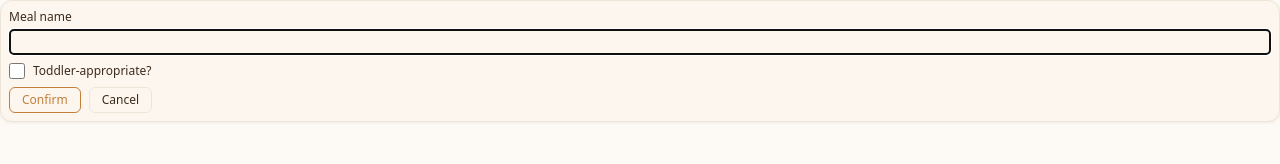
Test: MealSlotEditing › shows validation error when meal name is empty
Click the button "Confirm" at (45, 100), box [9, 87, 81, 113]
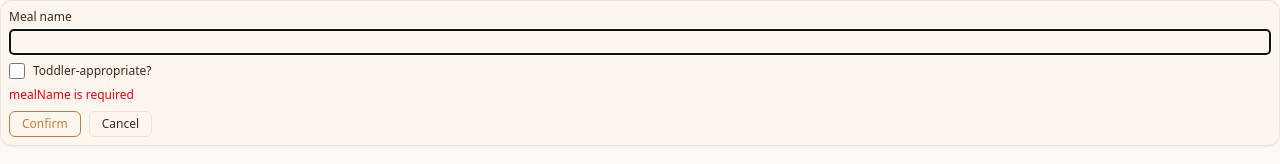
Check: the message reads "mealName is required", box [9, 86, 134, 103]
